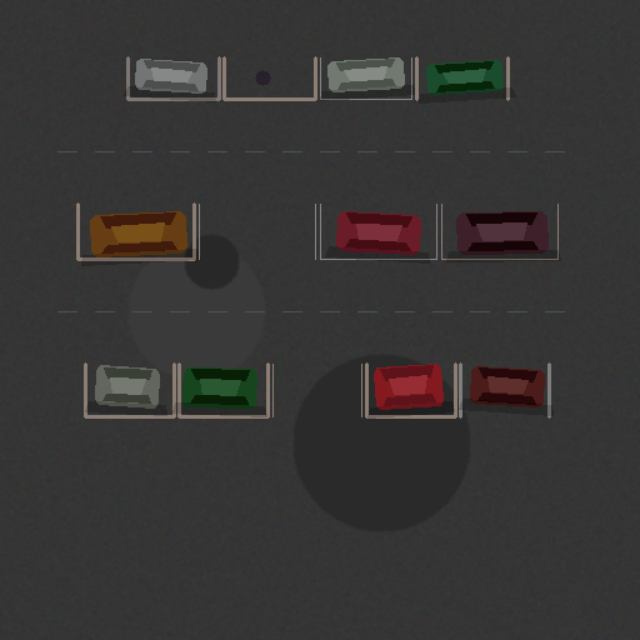space-empty: (199, 204, 315, 259), (272, 364, 361, 416), (224, 57, 315, 99)
space-occupied: (77, 204, 194, 259), (320, 204, 436, 259), (441, 204, 557, 259), (85, 364, 174, 416), (179, 364, 268, 416), (366, 364, 455, 416), (460, 364, 549, 416), (416, 57, 508, 99), (128, 57, 219, 99), (320, 57, 411, 99)
